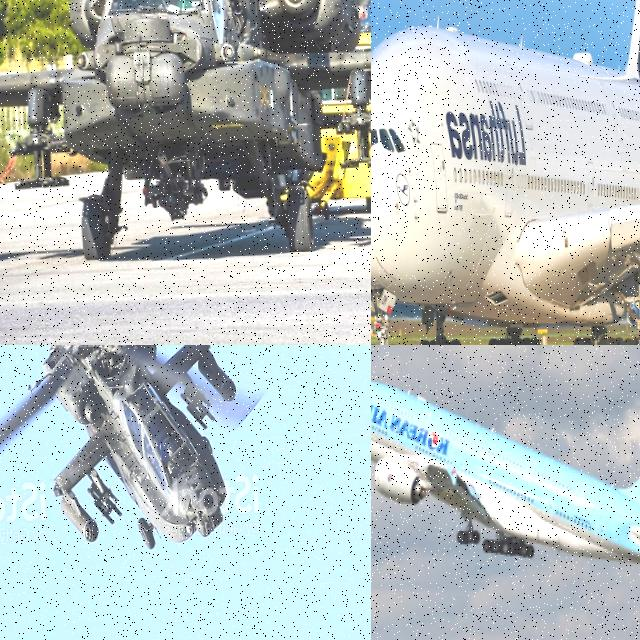A380: (371, 0, 640, 345), (371, 364, 640, 562)
Apache: (0, 0, 371, 250), (0, 345, 301, 559)
